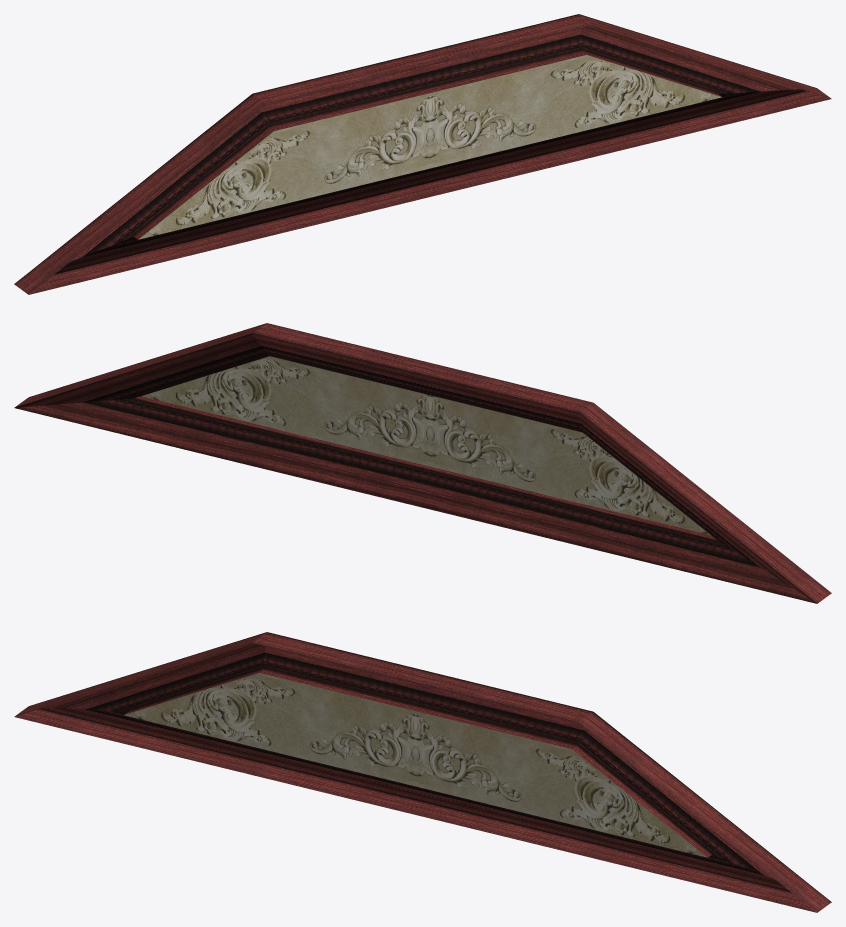
Rendered from OrnamentalWall.DAE.
3 views of the same model, one above another, from view 1: azimuth 30°, elevation 25°; view 2: azimuth 150°, elevation 25°; view 3: azimuth 330°, elevation 25° (orthographic).
Parts seen in each view (by area): view 1: Plane001; view 2: Plane001; view 3: Plane001.
Part boxes in pixels (x1,y1,x2,y2): Plane001: (14, 14, 831, 294); Plane001: (14, 323, 831, 603); Plane001: (14, 632, 831, 912).
Bounding box in the file's own units: 10.03 × 0.3182 × 1.58.
